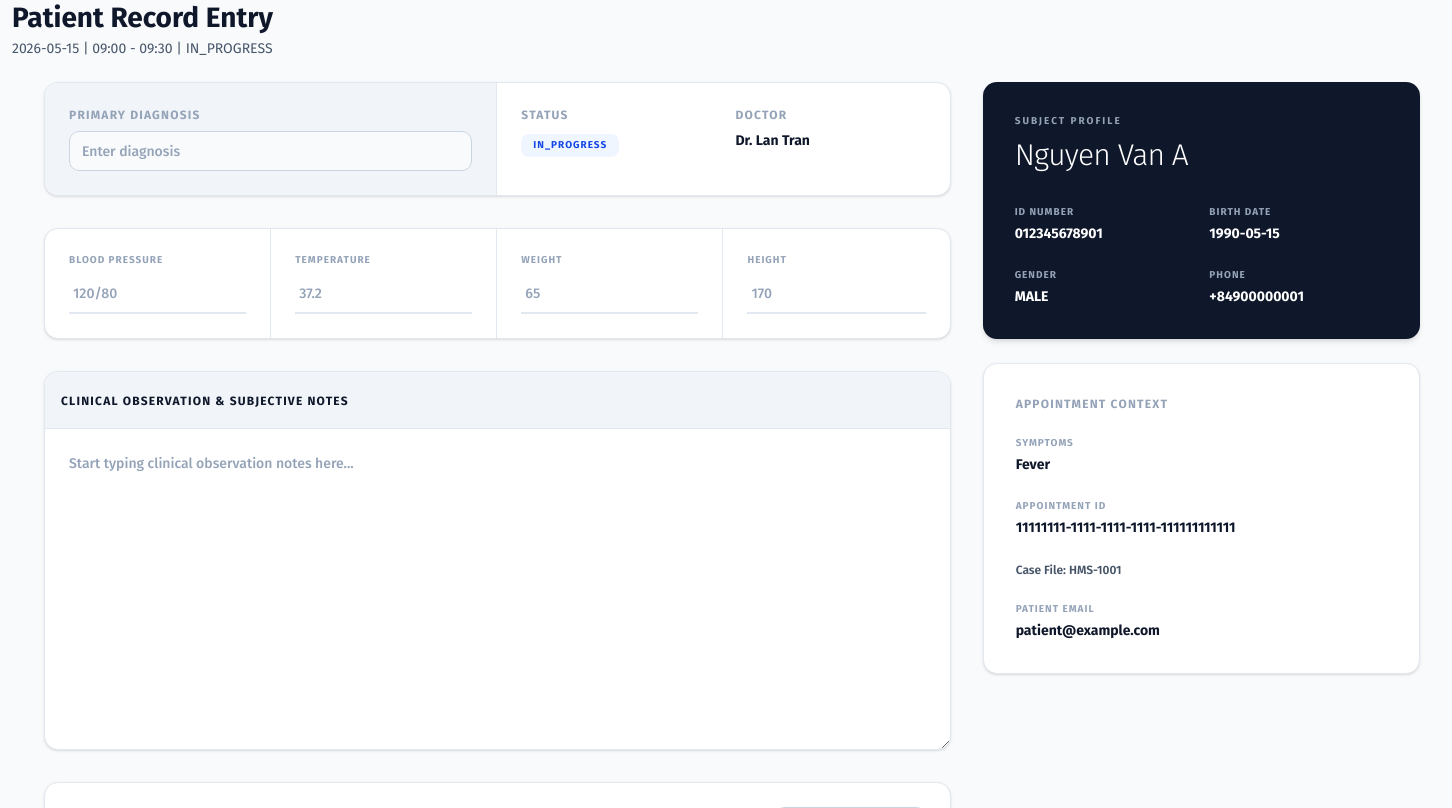
Test: MedicalRecordEditorPage › shows backend duplicate or invalid-status errors honestly
Type "Seasonal allergy" into the field labelled "Primary Diagnosis" at (271, 151), box [69,131,472,171]
(page scrolled)
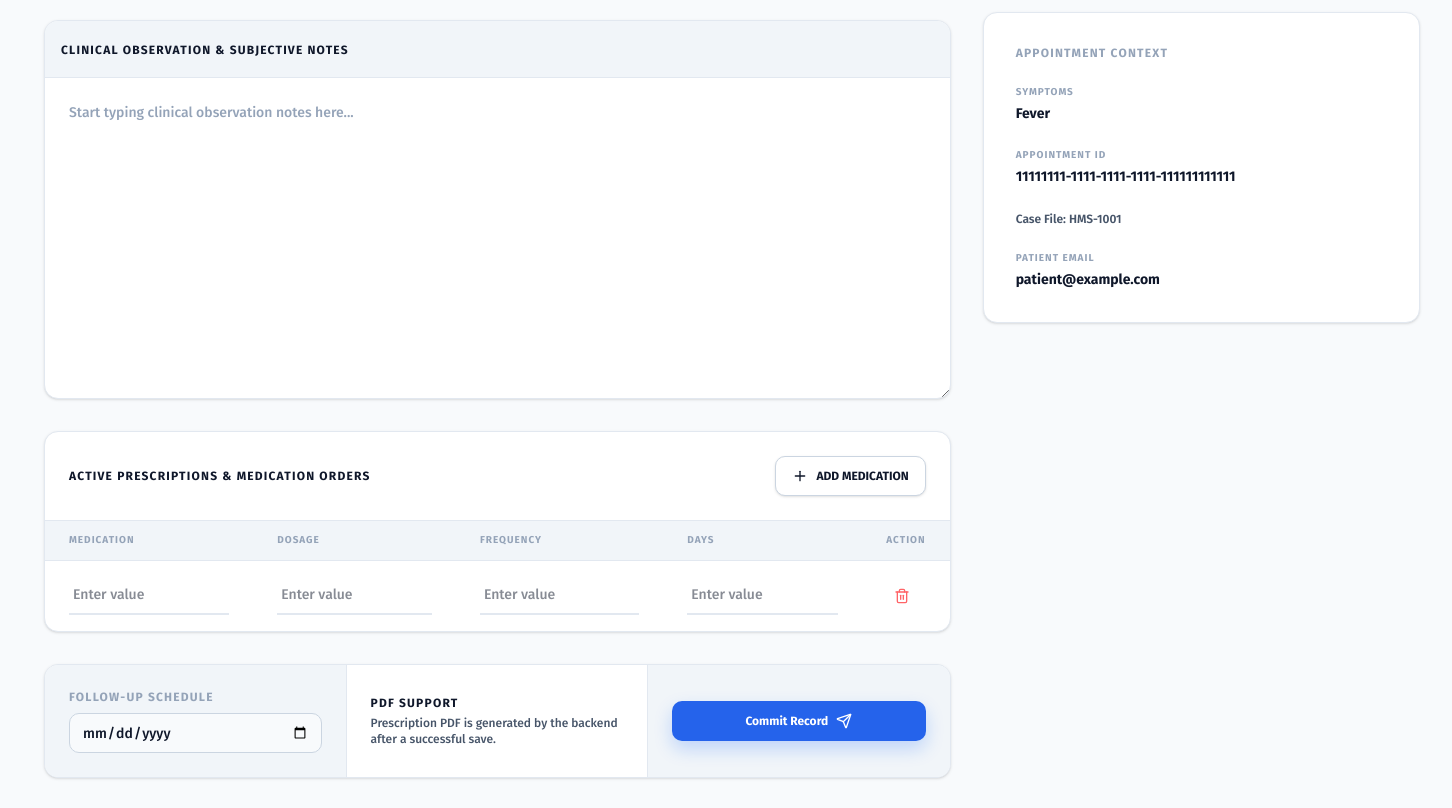
Click the button "Commit Record" at (799, 721), box [672,701,926,741]
(page scrolled)
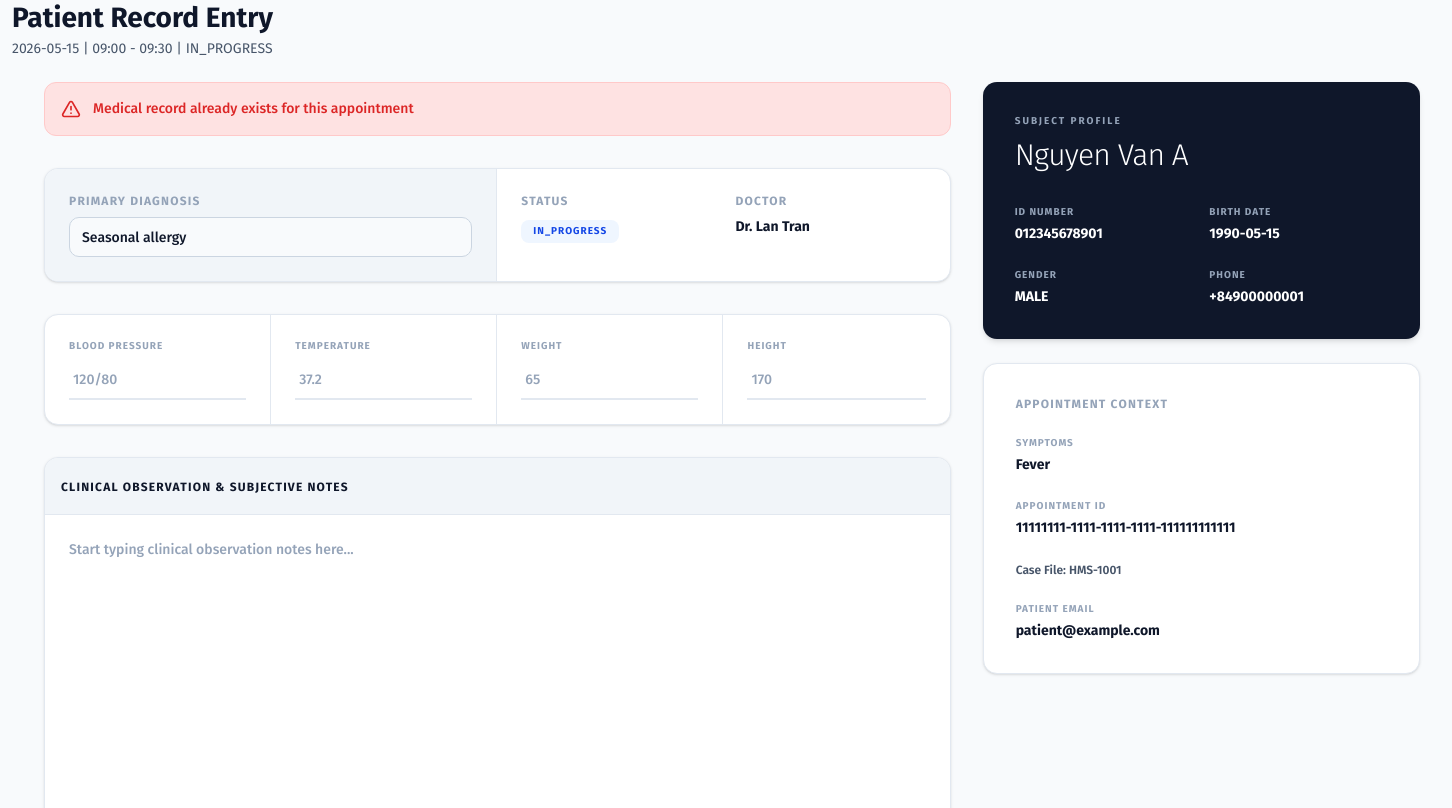
Now the message reads "Medical record already exists for this appointment", box [93,100,414,117]
